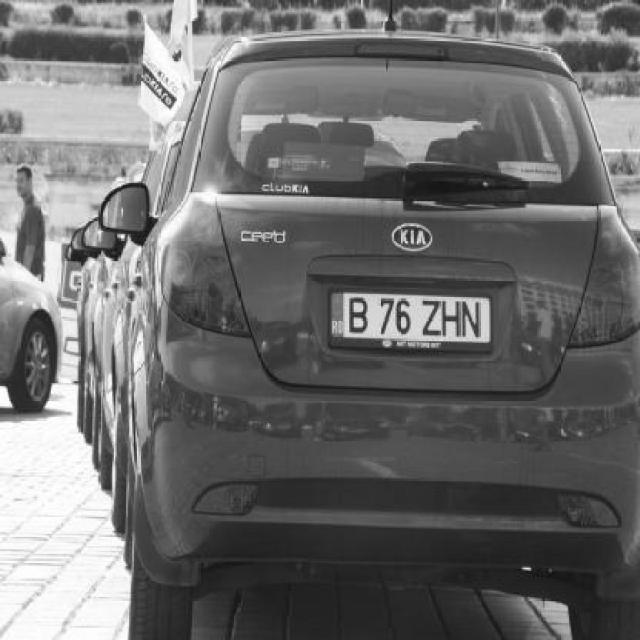car: (106, 21, 640, 640)
license-plate: (336, 289, 496, 354)
